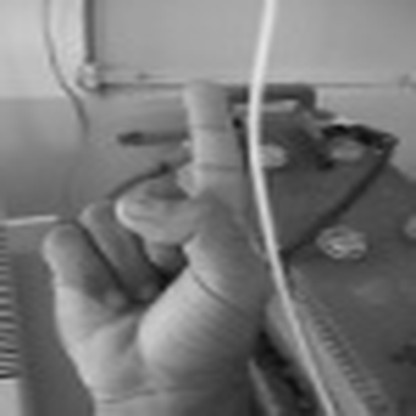d: (41, 72, 267, 416)
